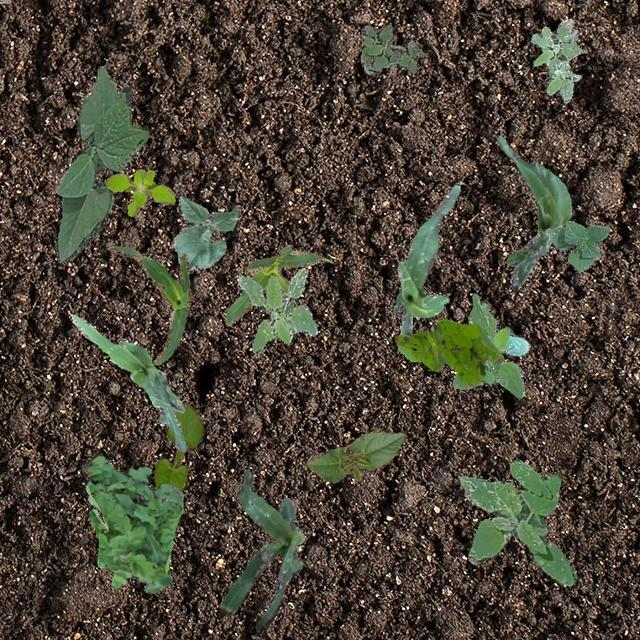crop: (54, 65, 148, 262), (70, 314, 186, 451), (218, 468, 304, 632), (496, 134, 570, 290), (105, 240, 192, 364), (392, 184, 458, 336), (224, 244, 330, 324), (452, 293, 530, 397), (172, 195, 240, 272), (306, 429, 404, 482), (152, 402, 204, 490), (544, 220, 608, 272)
weed: (456, 458, 576, 584), (84, 452, 182, 592), (396, 318, 502, 384), (236, 266, 316, 352), (530, 18, 580, 102), (104, 168, 174, 216), (360, 24, 422, 74)
